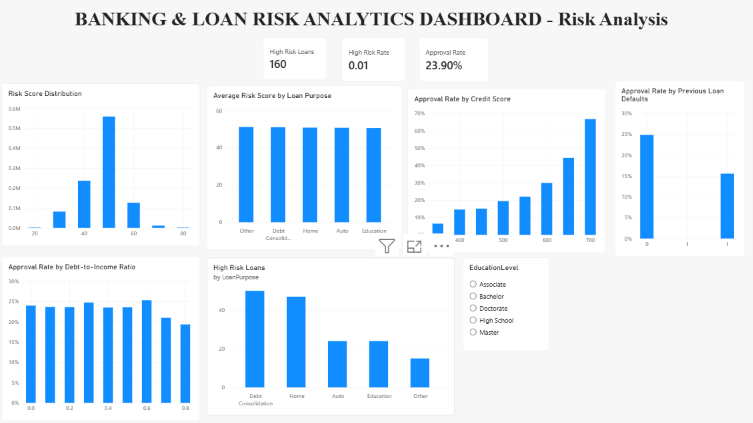

This screenshot's page, from the dashboard's own definition file:
{"tool":"powerbi","page":{"name":"Risk Analysis","canvas":[1920,1080],"ordinal":1},"visuals":[{"type":"cardVisual","fields":{"Data":["LoanData.High Risk Loans"]},"box":[679.7,107.7,160.4,106.9],"z":0},{"type":"cardVisual","fields":{"Data":["LoanData.High Risk Rate"]},"box":[876.6,107.7,160.4,111.8],"z":1},{"type":"textbox","box":[209,31.6,1497.1,75.3],"z":2},{"type":"cardVisual","fields":{"Data":["LoanData.Approval Rate"]},"box":[1071,107.7,175,111.8],"z":3},{"type":"clusteredColumnChart","title":"Risk Score Distribution","fields":{"Category":["LoanData.RiskScore (bins)"],"Y":["Sum(LoanData.RiskScore)"]},"box":[26.7,223.6,495.8,405.9],"z":4},{"type":"clusteredColumnChart","title":"Average Risk Score by Loan Purpose","fields":{"Category":["LoanData.LoanPurpose"],"Y":["Avg(LoanData.RiskScore)"]},"box":[539.5,228.5,488.5,410.7],"z":5},{"type":"clusteredColumnChart","title":"Approval Rate by Credit Score","fields":{"Category":["LoanData.CreditScore (bins)"],"Y":["LoanData.Approval Rate"]},"box":[1042.6,235.7,495.8,410.7],"z":6},{"type":"clusteredColumnChart","title":"Approval Rate by Debt-to-Income Ratio","fields":{"Category":["LoanData.DebtToIncomeRatio (bins)"],"Y":["LoanData.Approval Rate"]},"box":[26.7,653.8,495.8,410.7],"z":7},{"type":"clusteredColumnChart","title":"Approval Rate by Previous Loan Defaults","fields":{"Category":["LoanData.PreviousLoanDefaults"],"Y":["LoanData.Approval Rate"]},"box":[1560.3,213.9,325.7,439.9],"z":8},{"type":"clusteredColumnChart","fields":{"Category":["LoanData.LoanPurpose"],"Y":["LoanData.High Risk Loans"]},"box":[539.5,658.6,619.7,393.7],"z":9},{"type":"listSlicer","fields":{"Values":["LoanData.EducationLevel"]},"box":[1179.2,658.5,216.7,233.5],"z":10}]}

Visuals, with their boxes in screenshot pixels (x1, y1, x2, y2), scaled from the page's 1920x1080 canvas onto the 753x423 screenshot:
cardVisual - LoanData.High Risk Loans: {"left": 267, "top": 42, "right": 329, "bottom": 84}
cardVisual - LoanData.High Risk Rate: {"left": 344, "top": 42, "right": 407, "bottom": 86}
textbox: {"left": 82, "top": 12, "right": 669, "bottom": 42}
cardVisual - LoanData.Approval Rate: {"left": 420, "top": 42, "right": 489, "bottom": 86}
"Risk Score Distribution" clusteredColumnChart: {"left": 10, "top": 88, "right": 205, "bottom": 247}
"Average Risk Score by Loan Purpose" clusteredColumnChart: {"left": 212, "top": 89, "right": 403, "bottom": 250}
"Approval Rate by Credit Score" clusteredColumnChart: {"left": 409, "top": 92, "right": 603, "bottom": 253}
"Approval Rate by Debt-to-Income Ratio" clusteredColumnChart: {"left": 10, "top": 256, "right": 205, "bottom": 417}
"Approval Rate by Previous Loan Defaults" clusteredColumnChart: {"left": 612, "top": 84, "right": 740, "bottom": 256}
clusteredColumnChart - LoanData.LoanPurpose x LoanData.High Risk Loans: {"left": 212, "top": 258, "right": 455, "bottom": 412}
listSlicer - LoanData.EducationLevel: {"left": 462, "top": 258, "right": 547, "bottom": 349}
